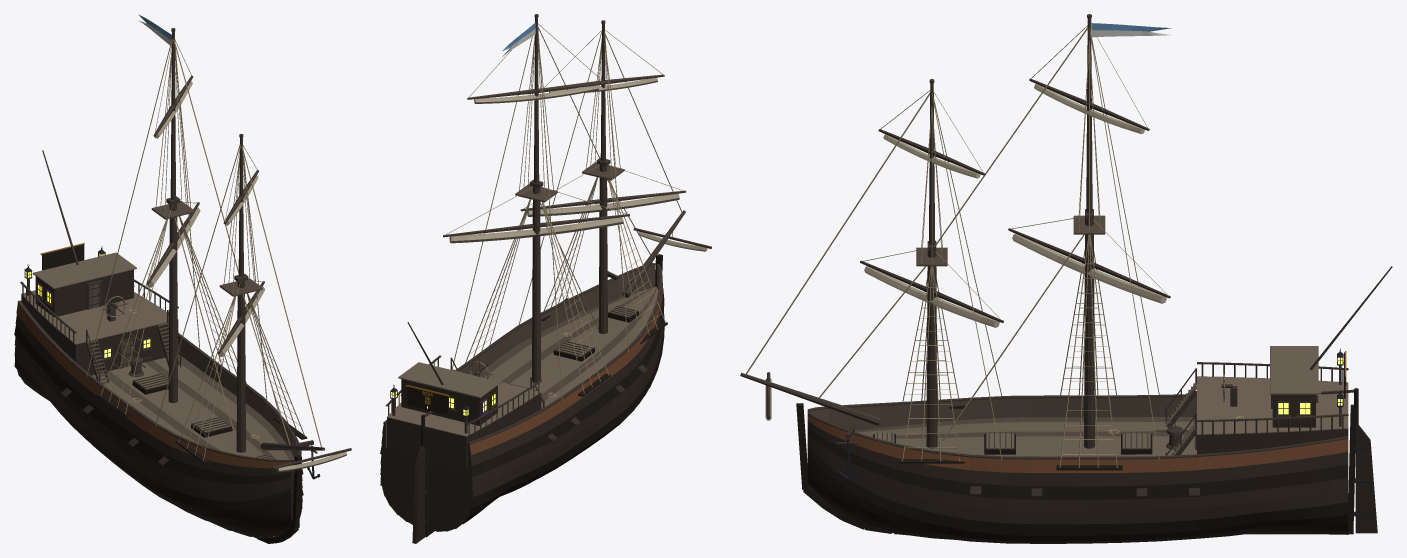
Rendered from ship.glb.
The picture shows the model from 3 angles, left to right: view 1: azimuth 30°, elevation 25°; view 2: azimuth 150°, elevation 25°; view 3: azimuth 270°, elevation 25°; orthographic projection. The views are drawn at different scales.
Visible parts, largest first — view 1: isl_ship; view 2: isl_ship; view 3: isl_ship.
Boxes of the visible parts, x1,y1,x2,y2 form: isl_ship: (14, 14, 351, 543); isl_ship: (380, 14, 711, 543); isl_ship: (740, 14, 1392, 543).
Bounding box in the file's own units: 10.03 × 32.67 × 37.29.
